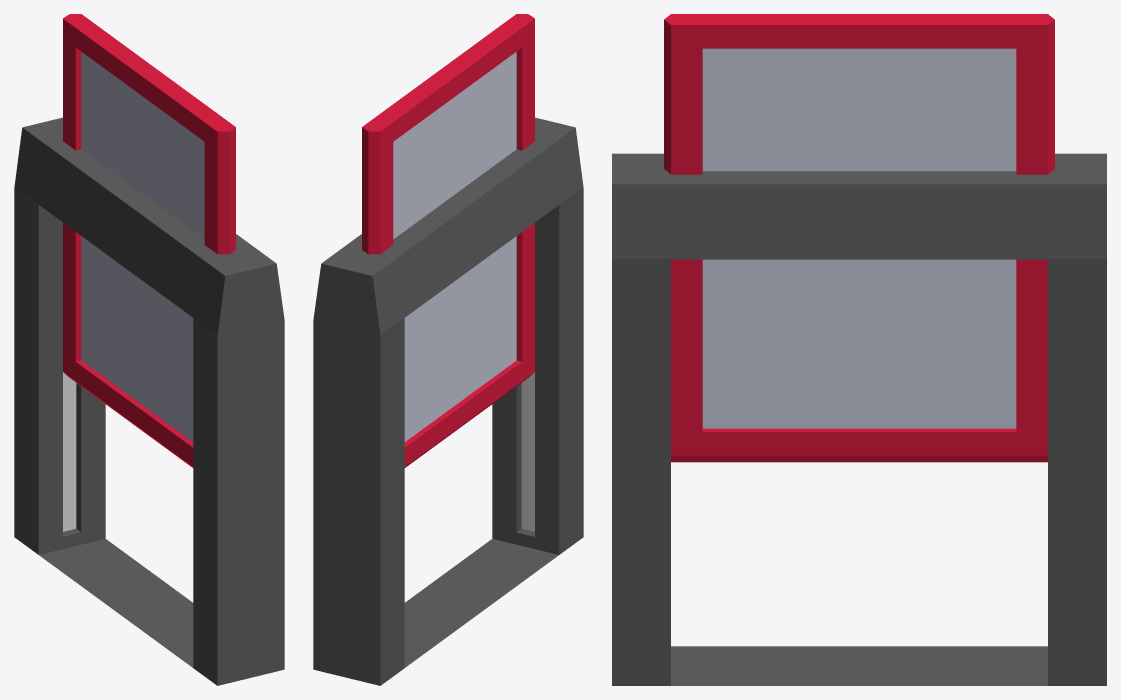
The model's file is slidingDoor.glb.
3 views of the same model, side by side, from view 1: azimuth 30°, elevation 25°; view 2: azimuth 150°, elevation 25°; view 3: azimuth 270°, elevation 25° (orthographic). The views are drawn at different scales.
Visible parts, largest first — view 1: frame, door; view 2: frame, door; view 3: door, frame.
Boxes of the visible parts, x1,y1,x2,y2 form: frame: (14, 117, 284, 685); door: (63, 14, 235, 467); frame: (313, 117, 583, 685); door: (362, 14, 534, 467); door: (664, 14, 1054, 462); frame: (612, 153, 1106, 685).
Bounding box in the file's own units: 0.6 × 4.54 × 3.15.
